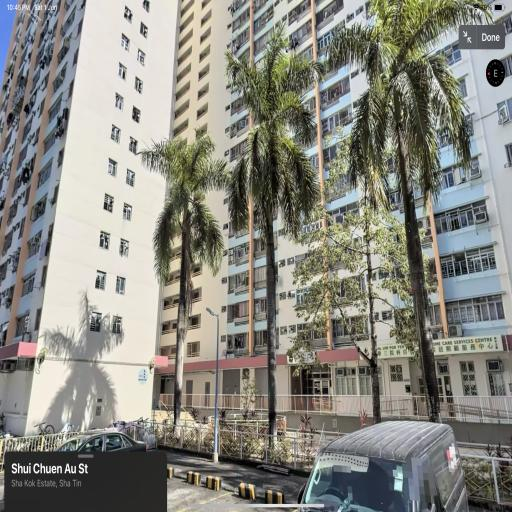Roads: (174, 439, 305, 506)
Trees: (337, 0, 505, 406), (226, 24, 322, 445), (152, 118, 232, 434)
